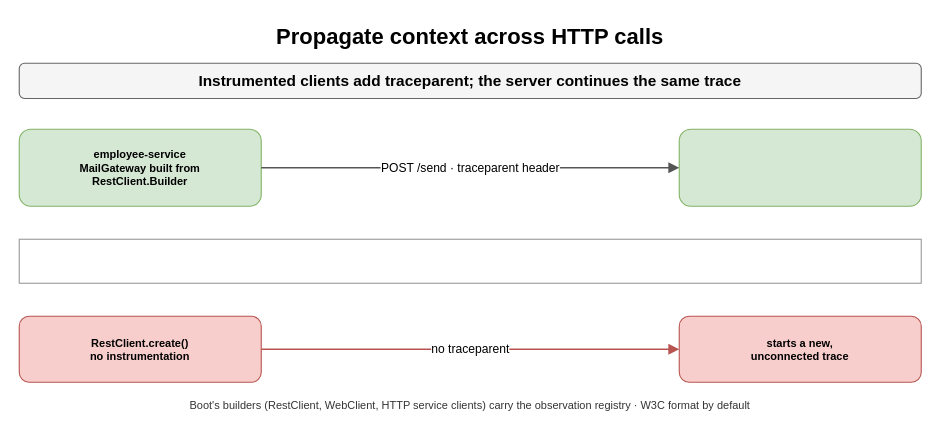
The diagram is 941 pixels wide and 436 high, and some of its shapes have lost their labels. The shapes that lost their labels are listed below. From the top down, each one's centre as x and y in pixels, then its label:
At point 799,167: "mail-gateway continues the trace".
At point 469,260: "traceparent: 00-4bf92f3577b34da6a3ce929d0e0e4736-00f067aa0ba902b7-01".
